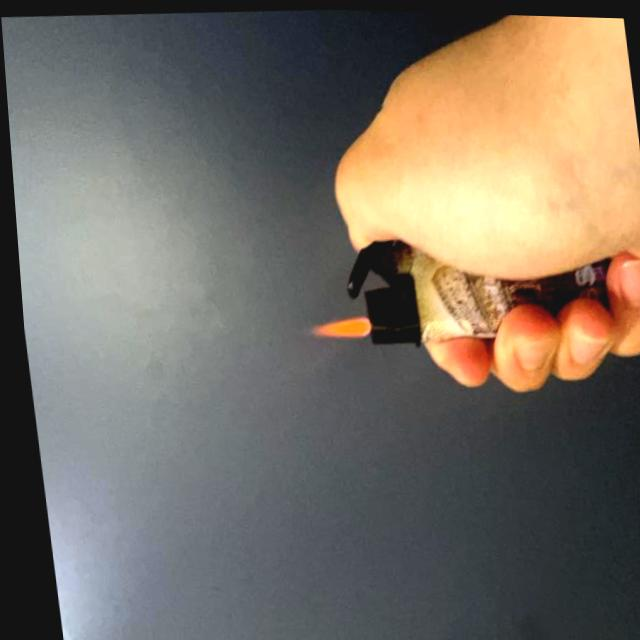Fire: (298, 310, 369, 342)
